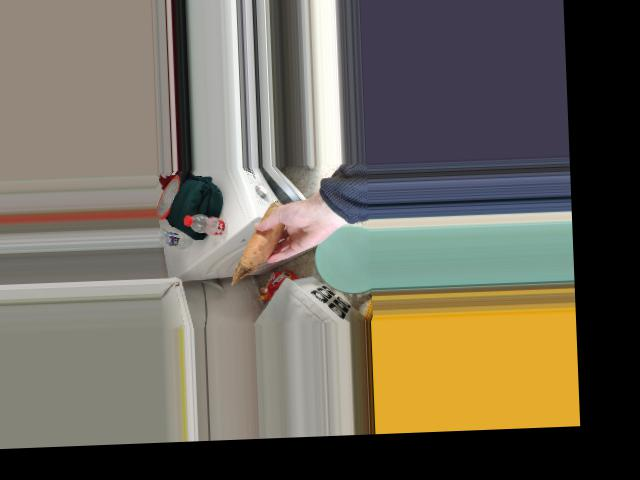sweet_potato: (238, 215, 284, 262)
